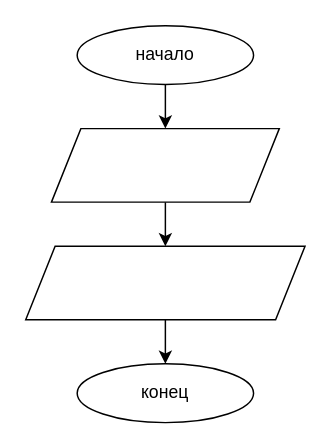
Image size: 331x448. Some labels were removed from this diagram. The centre of each missing label's shape, as x and y in pixels:
ввод номера буквы: number: (x=164, y=164)
вывод буквы по номеру: chr(number + 96): (x=164, y=282)
